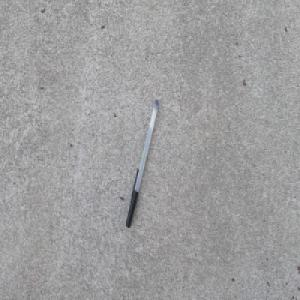Pen: (125, 97, 160, 229)
